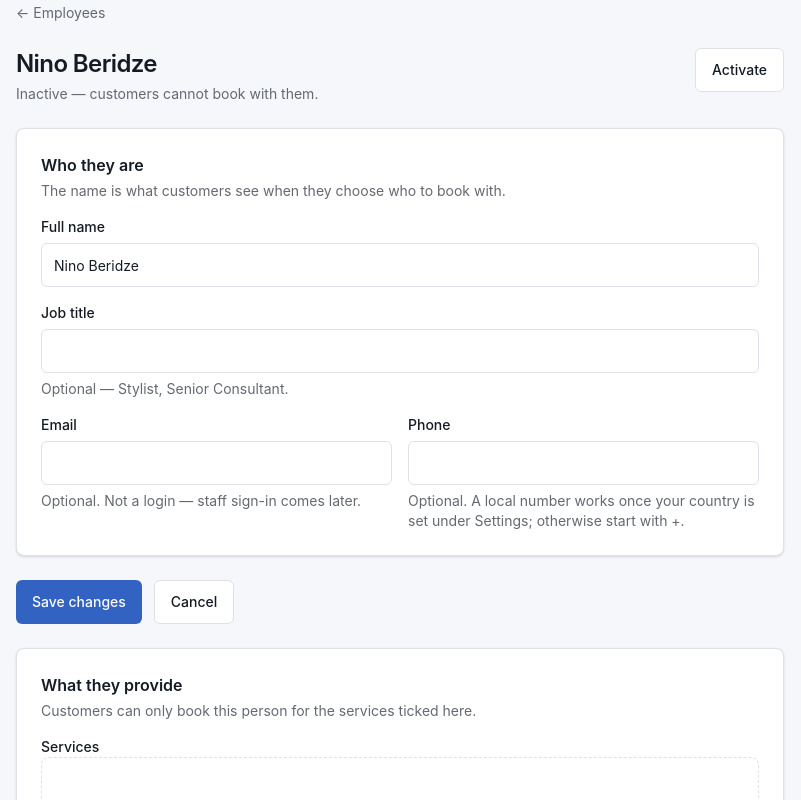
Test: the employee detail page, when the toggle is refused › shows the server sentence rather than losing it between page and control
Click the button "Activate": (740, 70) [695,48,784,92]
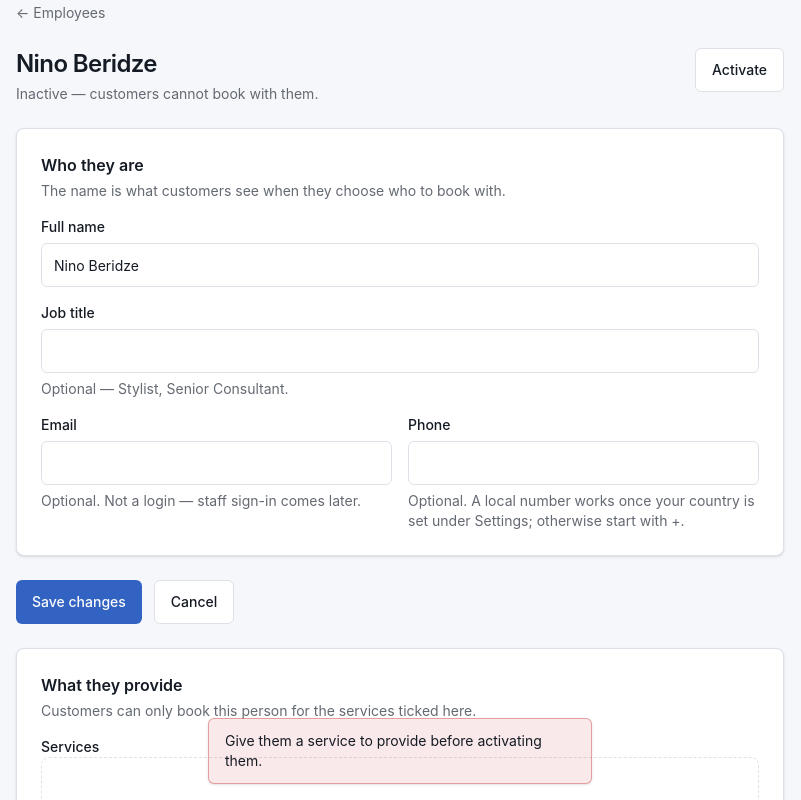
Now the text "Give them a service to provide before activating them." is shown, box [208,718,592,784]
